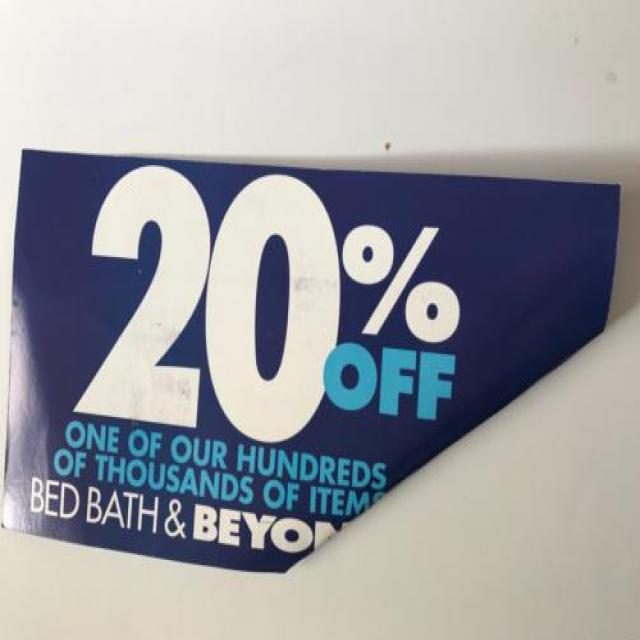kertas: (0, 146, 619, 575)
